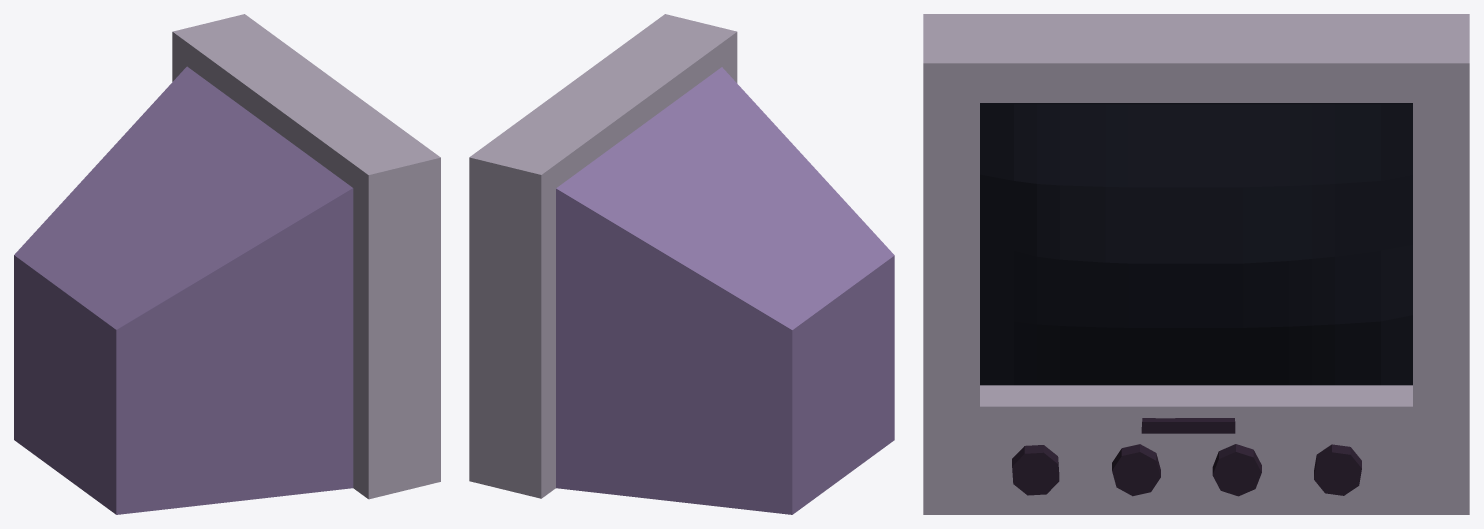
3 views of the same model, side by side, from view 1: azimuth 30°, elevation 25°; view 2: azimuth 150°, elevation 25°; view 3: azimuth 270°, elevation 25° (orthographic). The views are drawn at different scales.
Visible parts, largest first — view 1: TV; view 2: TV; view 3: TV.
Boxes of the visible parts, left/top/right/bottom form: TV: left=14, top=14, right=440, bottom=514; TV: left=469, top=14, right=894, bottom=514; TV: left=923, top=14, right=1469, bottom=514.
Size of the model in its own units: 879 by 943 by 1033.
